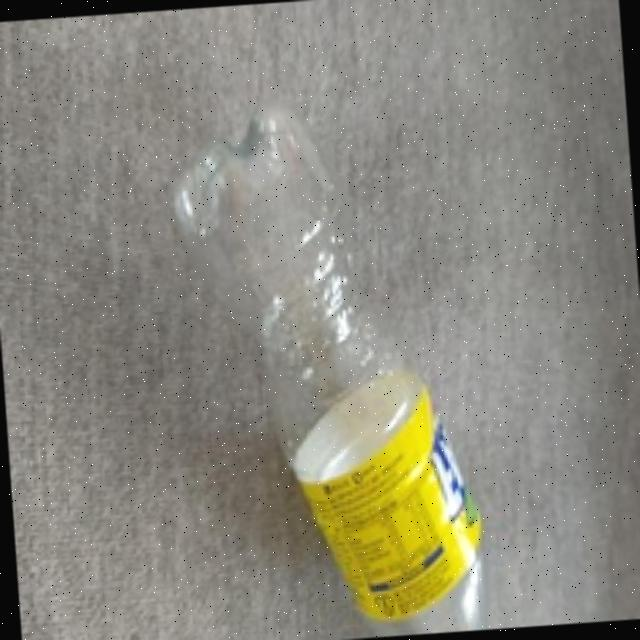bottle: (151, 89, 502, 640)
label: (286, 389, 500, 612)
